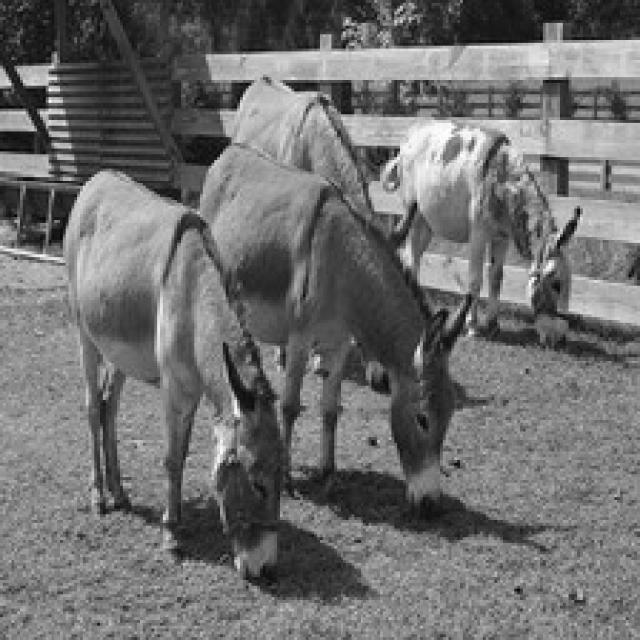Donkey: (176, 146, 470, 512), (60, 166, 286, 580), (377, 114, 580, 349), (226, 71, 374, 223)
